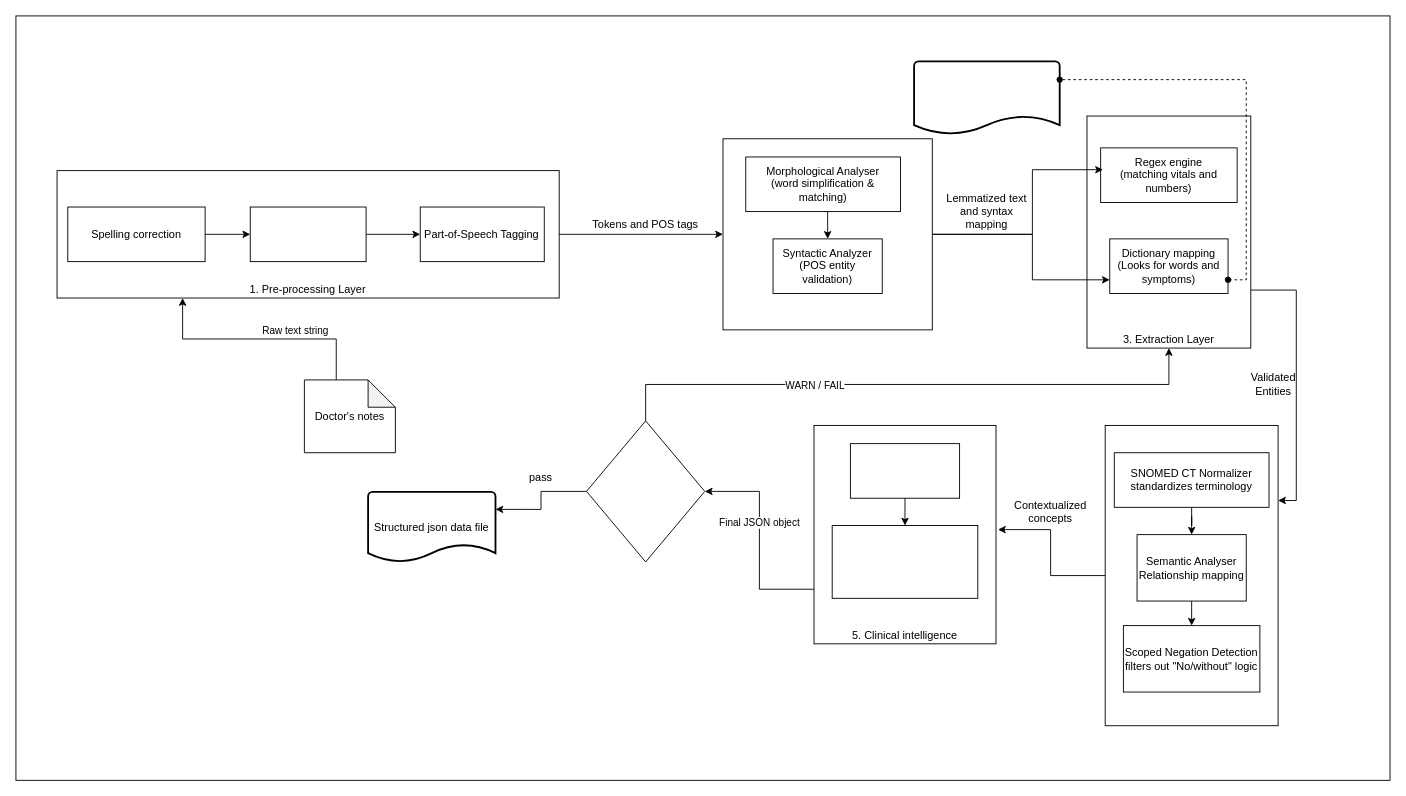
This 1406x796 diagram has some shape labels left out. The box of each missing label's shape, as (x1, y1, x2, y2) in pixels:
2. Syntactic Phase: (722, 138, 932, 330)
4. Semantic Phase: (1104, 425, 1278, 726)
Derivation engine Rule Based guesses eg. High WBC = Infection: (831, 525, 978, 598)
OpenEHR Dictionary marker_dictionary.json: (913, 60, 1060, 135)
Pragmatic Analyser: (849, 443, 960, 498)
test case [pass/warn/fail]: (586, 420, 705, 562)
Tokenization: (249, 206, 366, 262)
